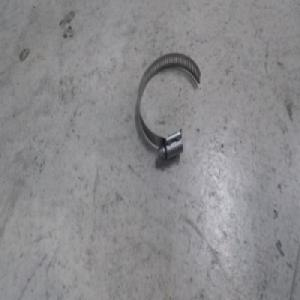AdjustableClamp: (134, 50, 200, 159)
